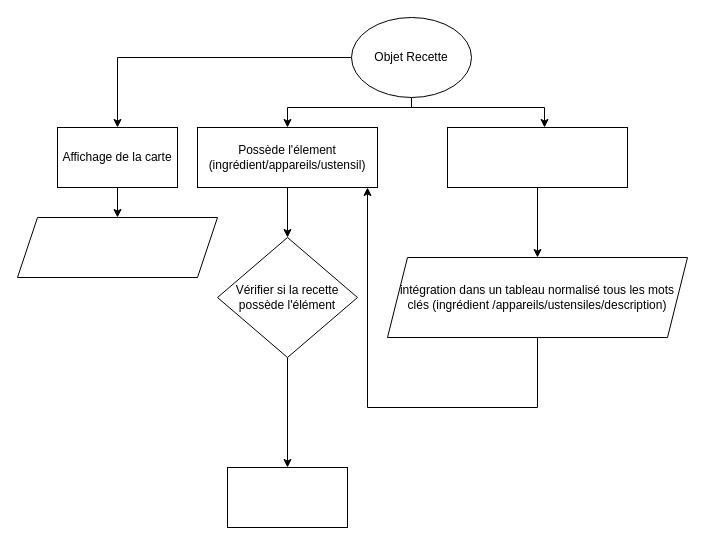
This 705x545 diagram has some shape labels left out. Here are the shapes that lost their labels. From the top down, the box of each, then its label:
(446, 126, 628, 188): Récupération des termes
(16, 216, 218, 278): Intégre les carte dans le DOM
(226, 466, 348, 528): Renvoie existe
